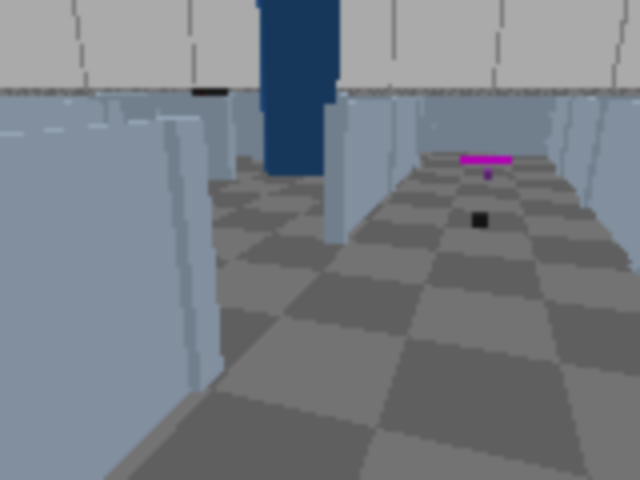puck: (470, 211, 490, 227)
